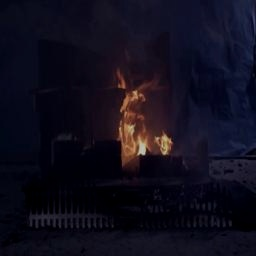fire: (112, 73, 175, 160)
